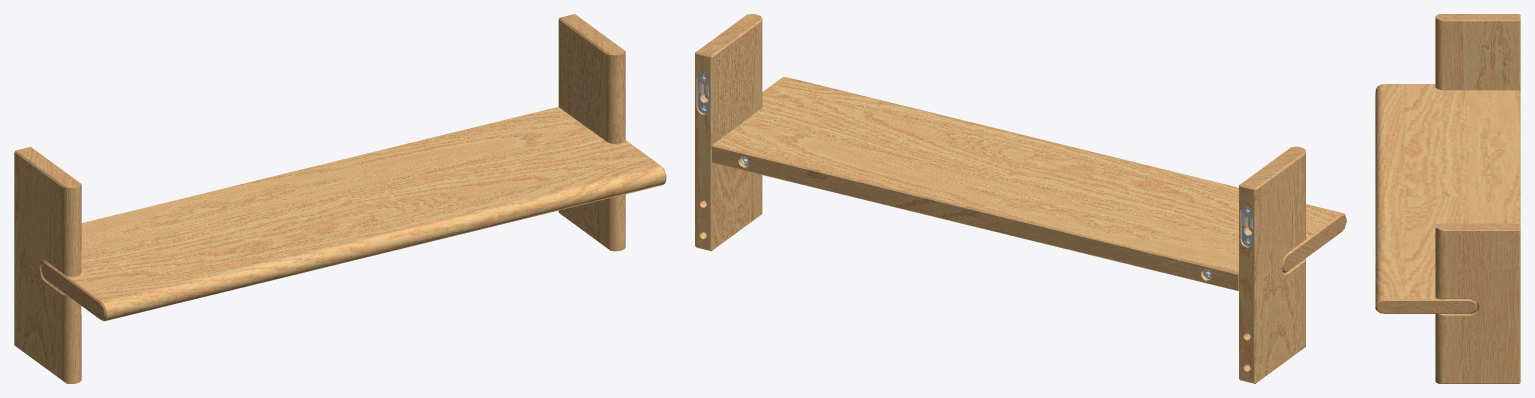
The picture shows the model from 3 angles, left to right: view 1: azimuth 30°, elevation 25°; view 2: azimuth 150°, elevation 25°; view 3: azimuth 270°, elevation 25°; orthographic projection. The views are drawn at different scales.
Parts seen in each view (by area): view 1: ASY_ART_30601689_S01_NV01; view 2: ASY_ART_30601689_S01_NV01; view 3: ASY_ART_30601689_S01_NV01.
Part boxes in pixels (x1,y1,x2,y2): ASY_ART_30601689_S01_NV01: [14, 14, 666, 383]; ASY_ART_30601689_S01_NV01: [695, 14, 1346, 383]; ASY_ART_30601689_S01_NV01: [1375, 14, 1520, 383].
Bounding box in the file's own units: 0.6001 × 0.2 × 0.17.
1 material, 1 textured.
